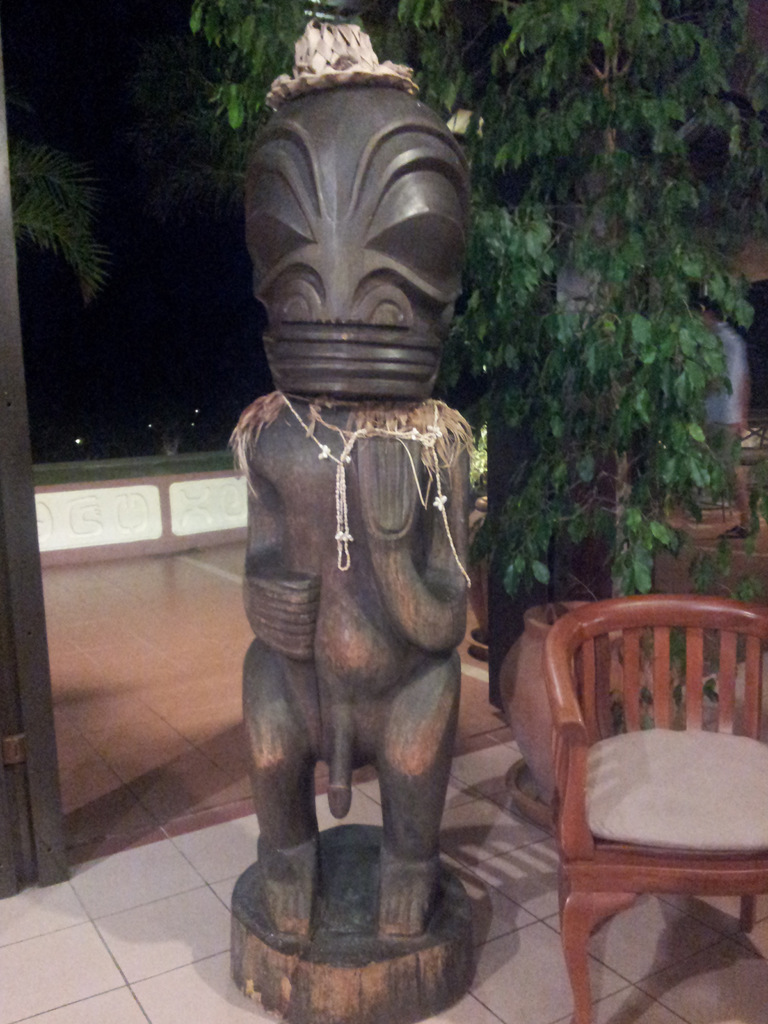Person: (238, 88, 481, 940)
